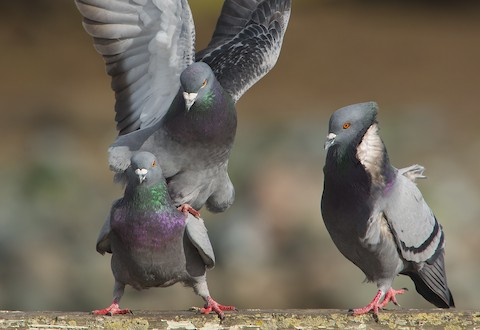pigeon: (71, 5, 300, 214), (313, 91, 463, 322), (84, 144, 235, 320)
